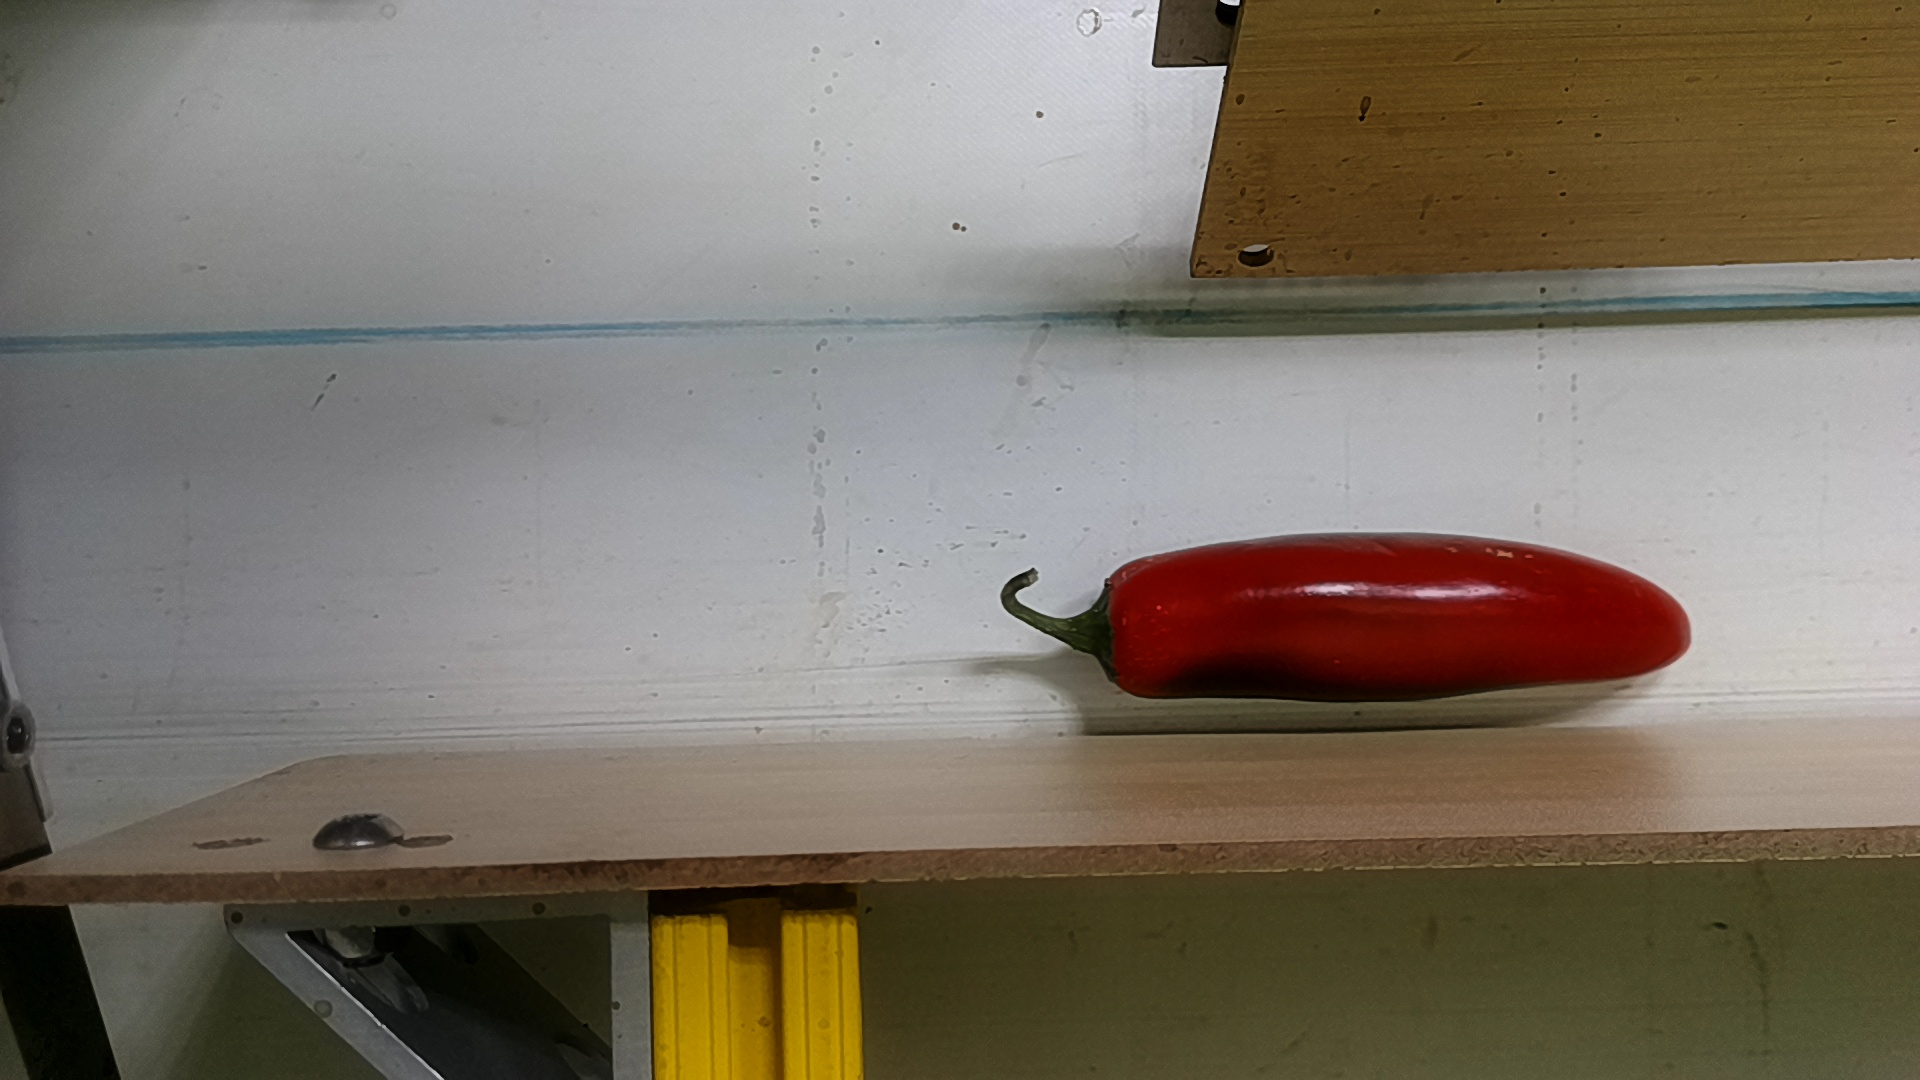Cut Point: (1076, 550, 1167, 707)
